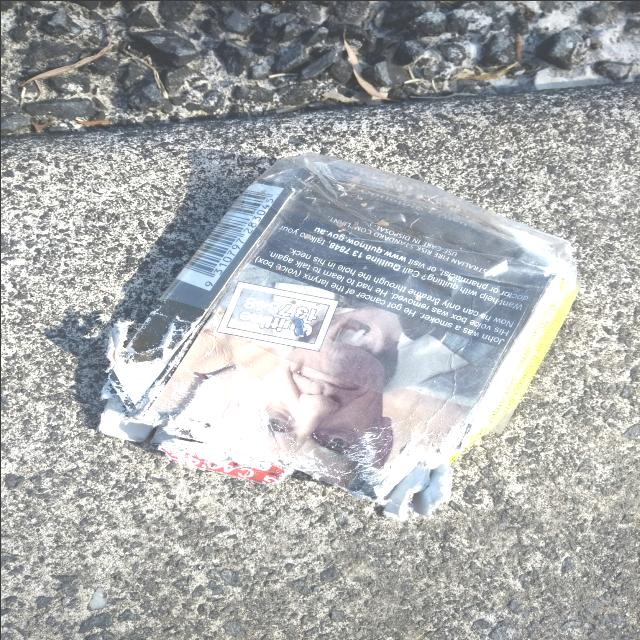Other carton: (99, 164, 576, 518)
Plastic film: (159, 151, 581, 432)
